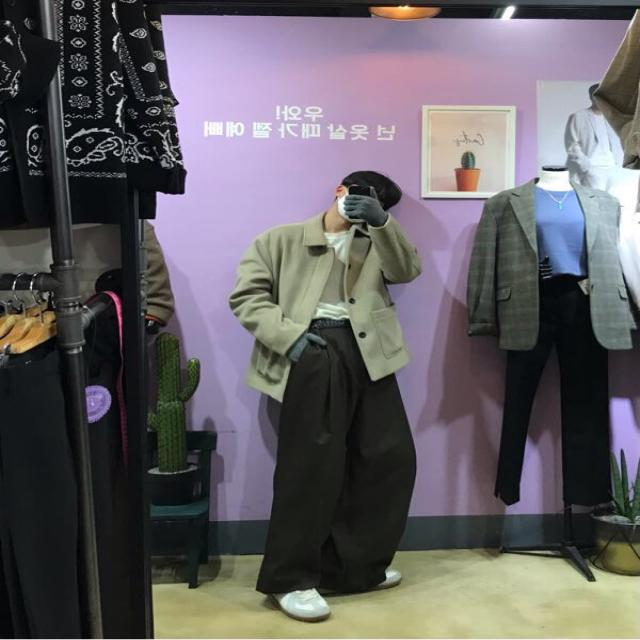blazer: (470, 180, 640, 351)
jacket: (227, 209, 420, 398)
slacks: (254, 317, 417, 594)
